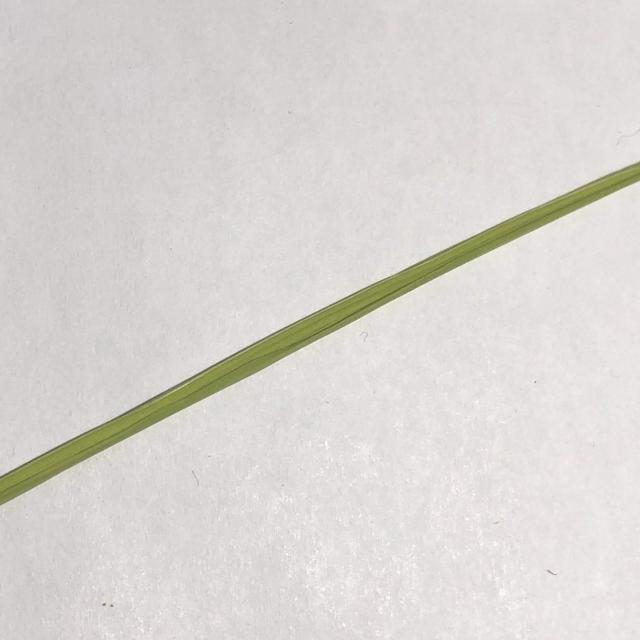Rice_Healthy: (0, 162, 640, 505)
